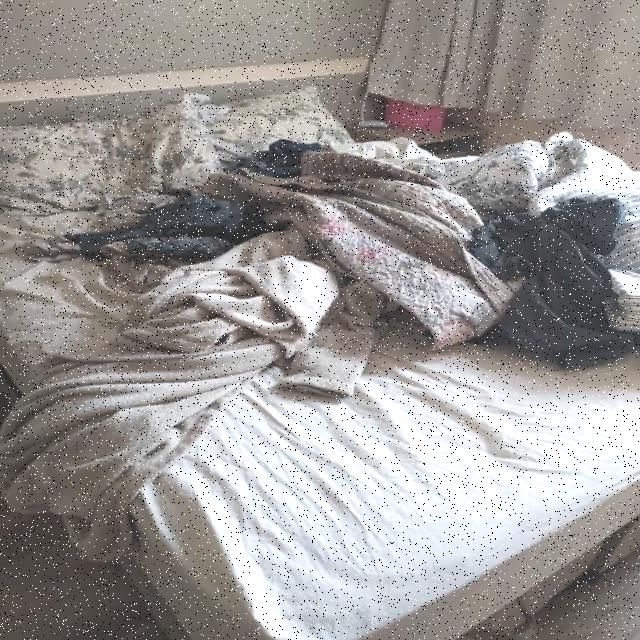bed: (4, 84, 640, 640)
